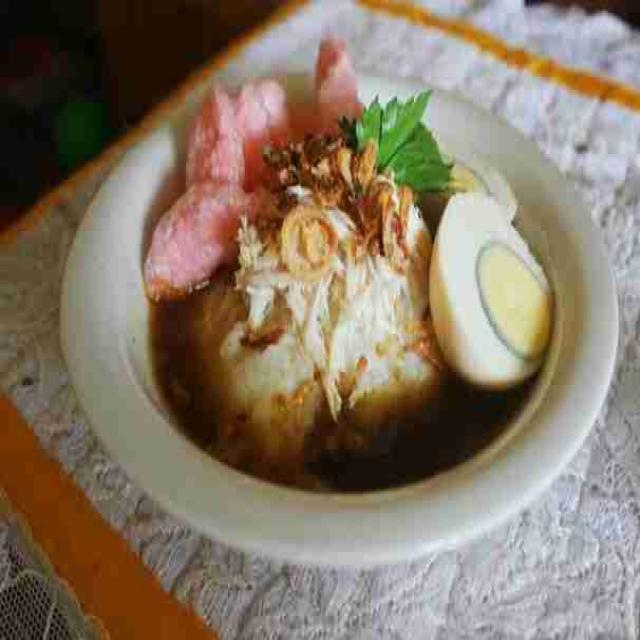bubur ayam: (147, 105, 558, 495)
piring: (59, 62, 620, 566)
telur rebus: (426, 191, 555, 394)
